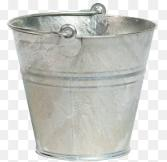SEAU: (3, 2, 167, 162)
